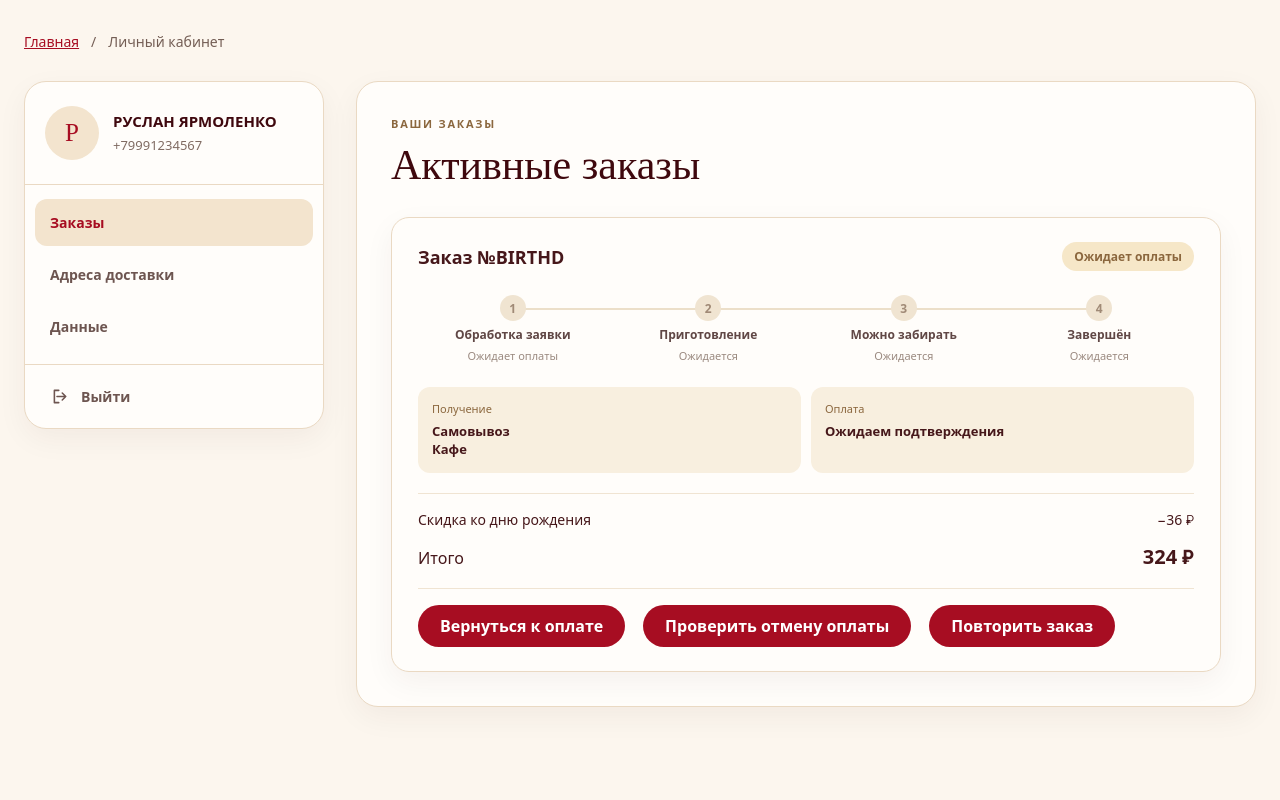
Scenario: ожидающий платёж оставляет скидку зарезервированной до подтверждённой отмены
Click the button "Проверить отмену оплаты" at (777, 626), box [643, 605, 911, 647]
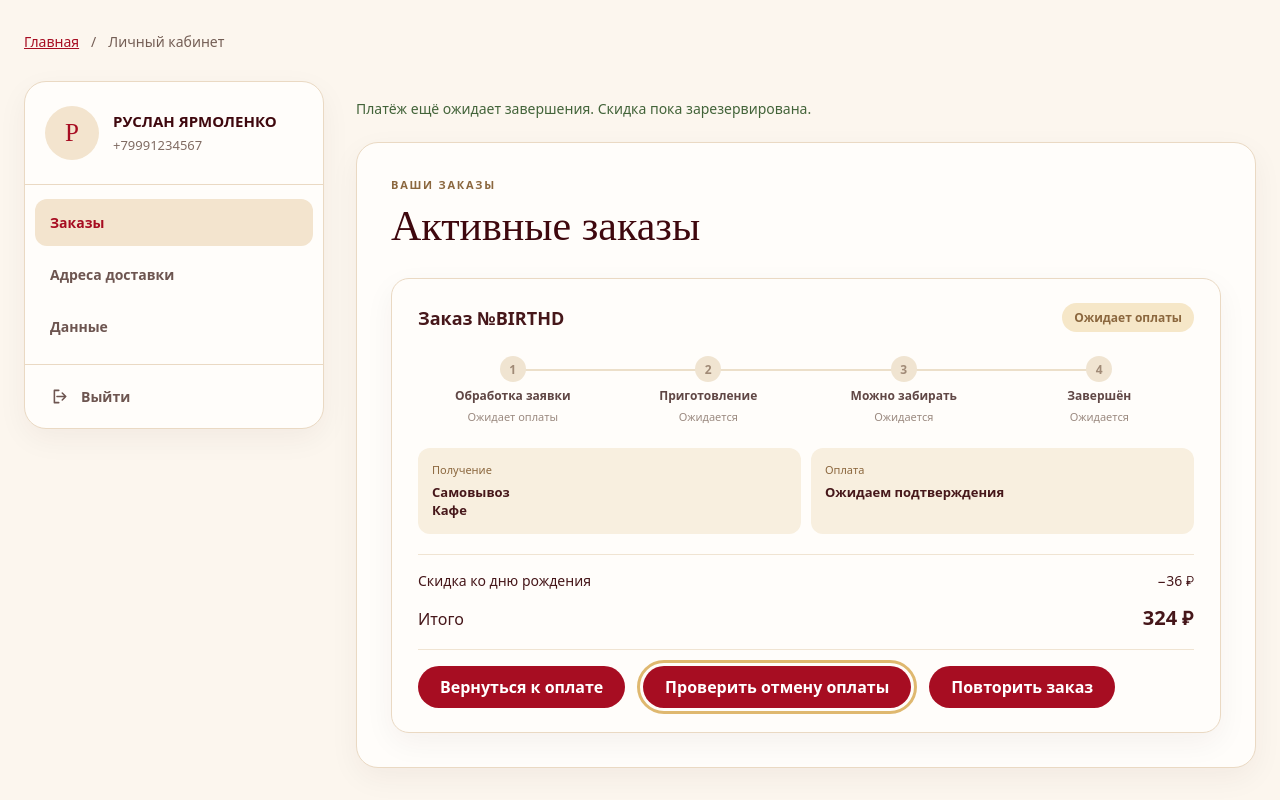
Expected: the text "Платёж ещё ожидает завершения. Скидка пока зарезервирована." is shown, [356, 99, 811, 118]
